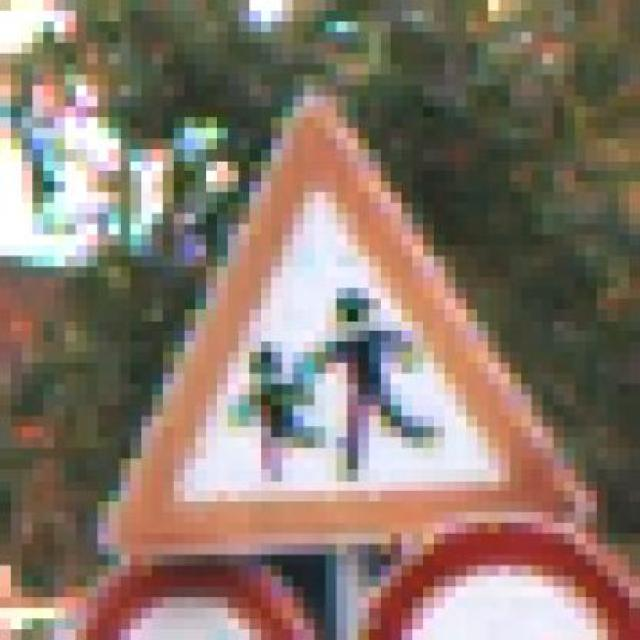Beware of children: (75, 63, 608, 554)
